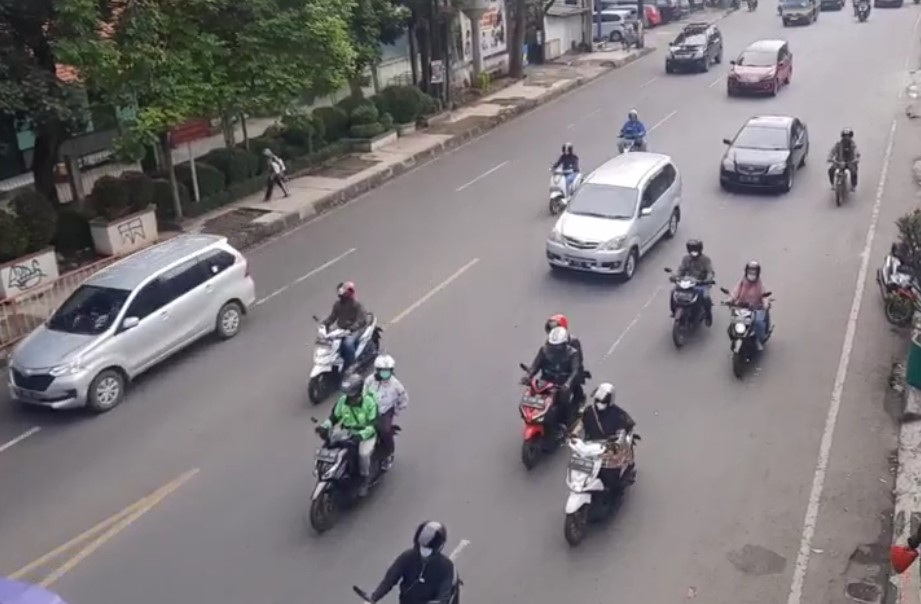motor: (275, 365, 426, 523), (563, 382, 649, 556), (290, 280, 384, 399), (512, 315, 584, 465), (724, 262, 776, 381), (663, 239, 719, 346), (542, 139, 585, 208), (827, 127, 864, 205)
